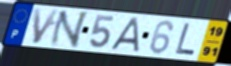5: (88, 14, 117, 49)
6: (148, 19, 175, 55)
A: (109, 16, 140, 53)
L: (173, 22, 197, 58)
N: (46, 11, 91, 49)
V: (32, 7, 61, 46)
